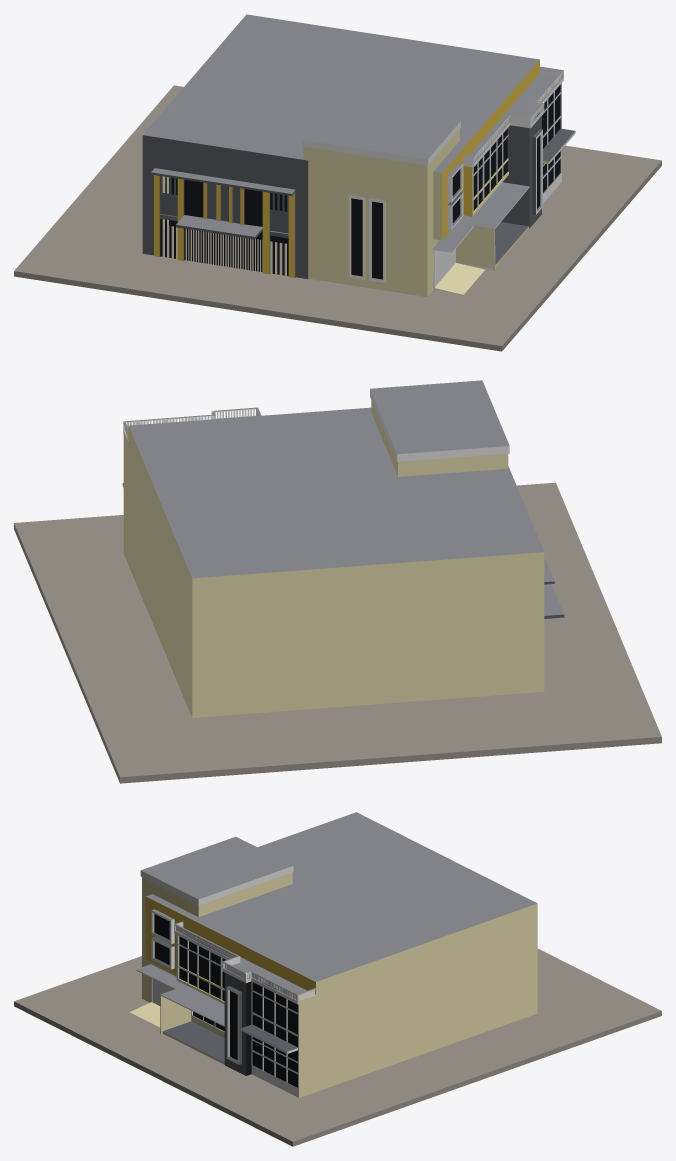
Rendered from Tkr_berwarna2.glb.
3 renders of one model, top to bottom at view 1: azimuth 30°, elevation 25°; view 2: azimuth 150°, elevation 25°; view 3: azimuth 270°, elevation 25°, orthographic. The views are drawn at different scales.
Parts seen in each view (by area): view 1: Cube, Cube.001; view 2: Cube, Cube.001; view 3: Cube, Cube.001.
Part boxes in pixels (left/top/right/bottom): Cube: left=142, top=14, right=575, bottom=296; Cube.001: left=14, top=85, right=661, bottom=351; Cube: left=122, top=380, right=564, bottom=717; Cube.001: left=14, top=482, right=661, bottom=783; Cube: left=129, top=812, right=537, bottom=1097; Cube.001: left=14, top=948, right=661, bottom=1146.
Bounding box in the file's own units: 36.62 × 8.39 × 36.96.
